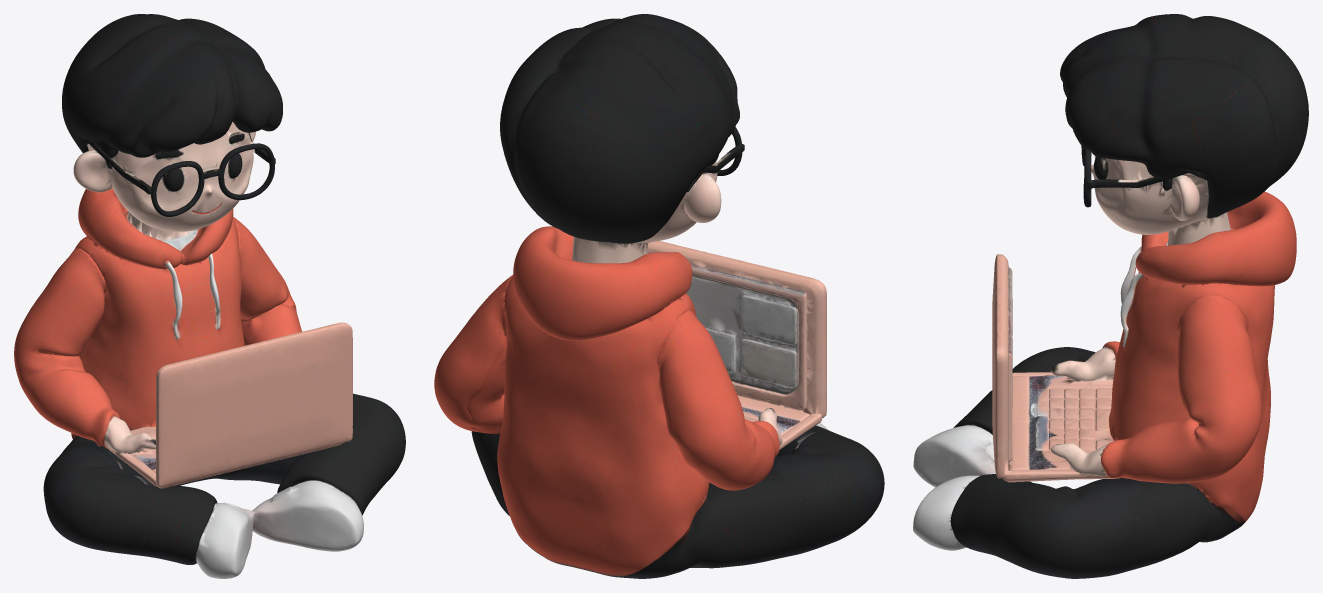
Rendered from meshy-model.glb.
The picture shows the model from 3 angles, left to right: view 1: azimuth 30°, elevation 25°; view 2: azimuth 150°, elevation 25°; view 3: azimuth 270°, elevation 25°; orthographic projection. The views are drawn at different scales.
Visible parts, largest first — view 1: mesh_node; view 2: mesh_node; view 3: mesh_node.
Boxes of the visible parts, left/top/right/bottom form: mesh_node: left=14, top=14, right=405, bottom=578; mesh_node: left=434, top=14, right=884, bottom=578; mesh_node: left=913, top=14, right=1308, bottom=578.
Bounding box in the file's own units: 1.5 × 1.9 × 1.39.
1 material, 1 textured.
